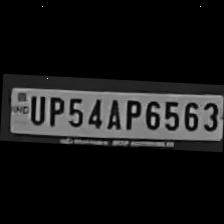3: (198, 96, 220, 132)
4: (82, 94, 104, 128)
5: (62, 93, 84, 127), (160, 96, 180, 128)
6: (178, 96, 200, 130), (139, 96, 161, 128)
A: (102, 95, 122, 129)
P: (120, 94, 142, 130), (42, 92, 64, 126)
U: (23, 90, 44, 124)
